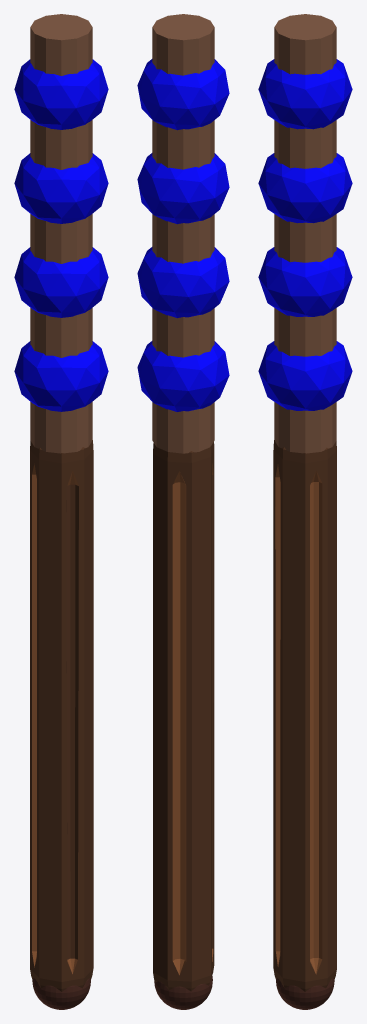
The model's file is Wand 533.glb.
3 views of the same model, side by side, from view 1: azimuth 90°, elevation 25°; view 2: azimuth 150°, elevation 25°; view 3: azimuth 270°, elevation 25° (orthographic).
Parts seen in each view (by area): view 1: GeneratedWand; view 2: GeneratedWand; view 3: GeneratedWand.
Part boxes in pixels (bbox=[...]): GeneratedWand: bbox=[14, 14, 108, 1009]; GeneratedWand: bbox=[137, 14, 229, 1009]; GeneratedWand: bbox=[258, 14, 352, 1009].
Size of the model in its own units: 0.0407 by 0.492 by 0.0428.
